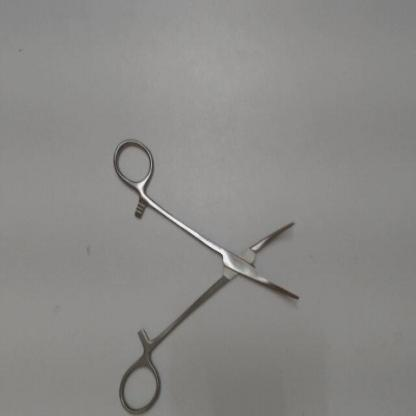Crile Artery Forceps: (107, 132, 305, 412)
